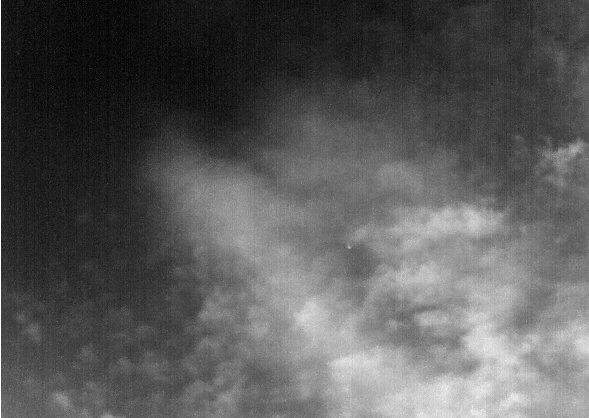dim target: (346, 244, 352, 250)
